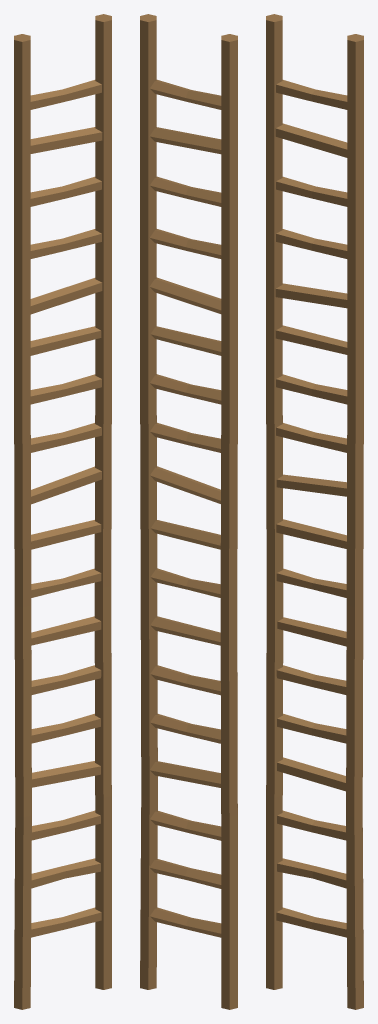
The model's file is castle_ladder_01.fbx.
3 views of the same model, side by side, from view 1: azimuth 30°, elevation 25°; view 2: azimuth 150°, elevation 25°; view 3: azimuth 330°, elevation 25° (orthographic).
Parts seen in each view (by area): view 1: castle_ladder_01; view 2: castle_ladder_01; view 3: castle_ladder_01.
Part boxes in pixels (x1,y1,x2,y2): castle_ladder_01: (14,14,111,1009); castle_ladder_01: (140,14,237,1009); castle_ladder_01: (266,14,363,1009).
Bounding box in the file's own units: 83.25 × 786 × 13.1.
